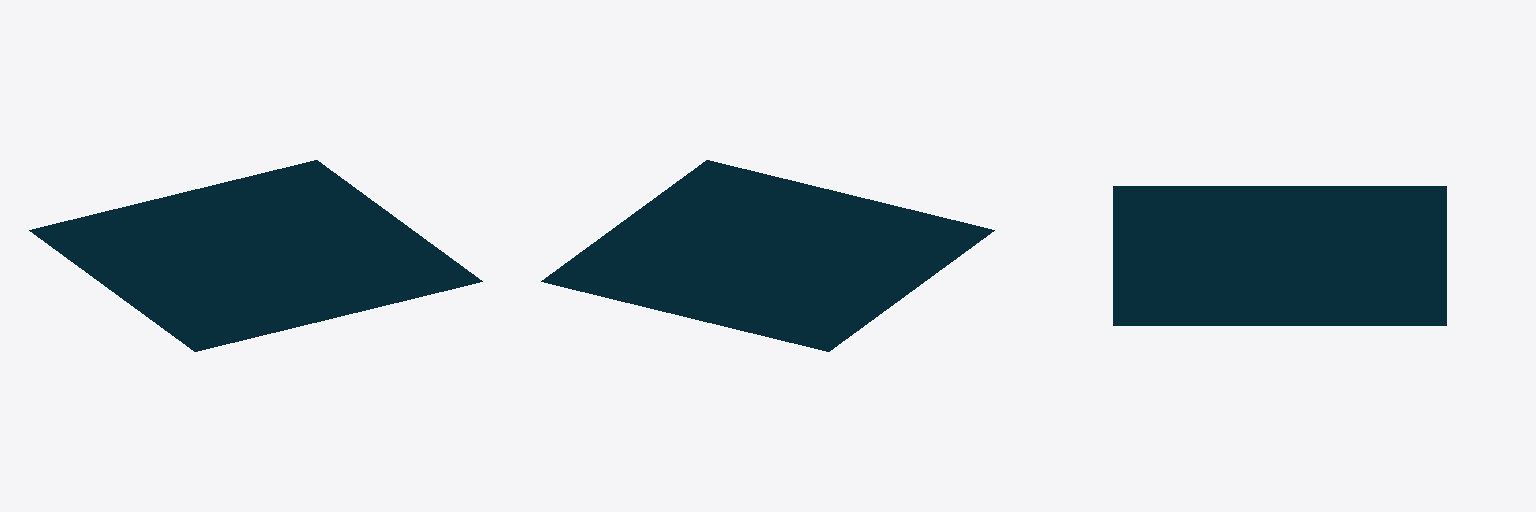
File: Wall.obj
3 views of the same model, side by side, from view 1: azimuth 30°, elevation 25°; view 2: azimuth 150°, elevation 25°; view 3: azimuth 270°, elevation 25° (orthographic).
Visible parts, largest first — view 1: 平面.1; view 2: 平面.1; view 3: 平面.1.
Part boxes in pixels (x1,y1,x2,y2): 平面.1: (29, 160, 482, 351); 平面.1: (541, 160, 994, 351); 平面.1: (1113, 186, 1446, 325).
Size of the model in its own units: 1.39 by 0 by 1.39.